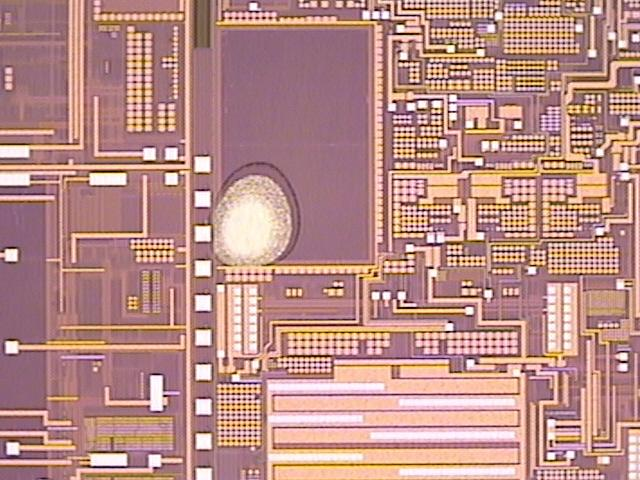BLOCK ETCH: (202, 160, 307, 275)
